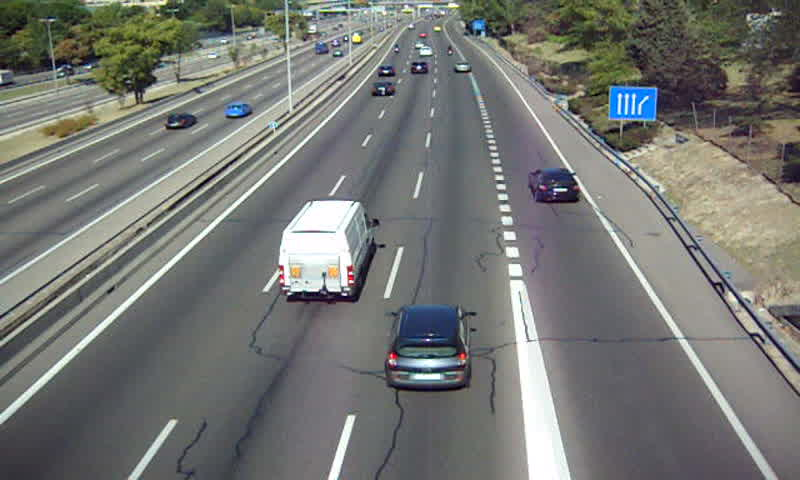car: (387, 306, 469, 390), (530, 168, 580, 203), (370, 82, 394, 99), (376, 63, 397, 78), (408, 61, 428, 75), (452, 60, 472, 73)
van: (279, 200, 379, 302)
